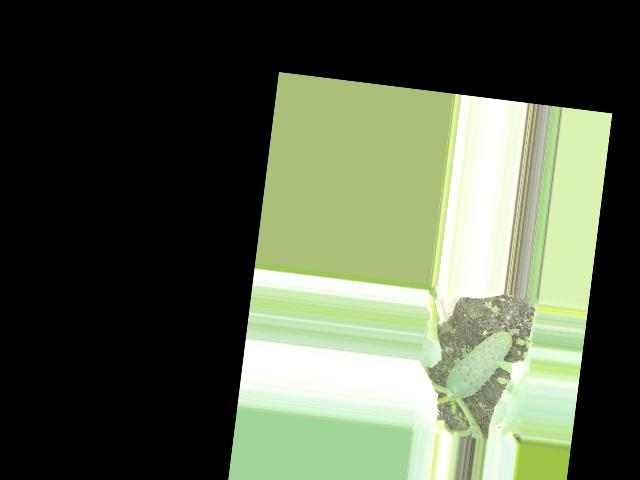cucumber: (444, 324, 513, 404)
